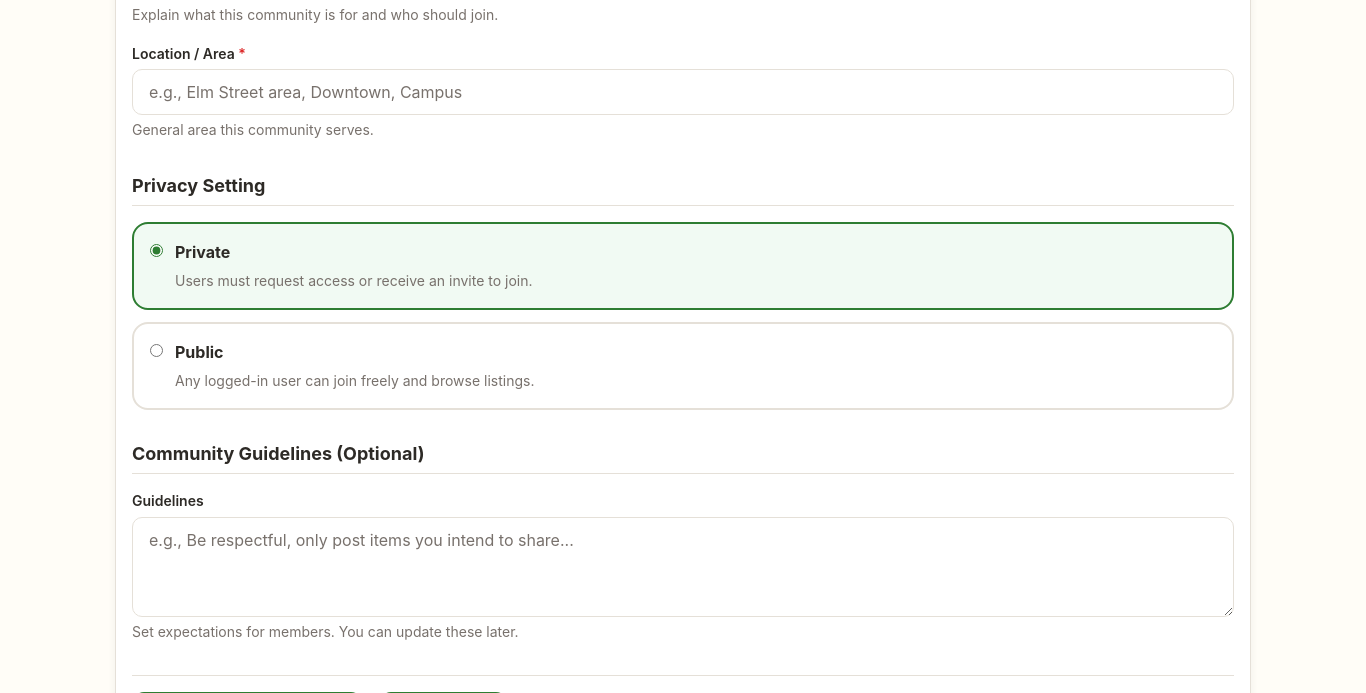
Test: CreateCommunity › must toggle privacy selection
(page scrolled)
Expected: the 1st radio button is checked, [150,244,163,257]
What coordinates should you click on to do the following:
click the 2nd radio button
I would click on:
 (156, 350)
Its box is [150,344,163,357].
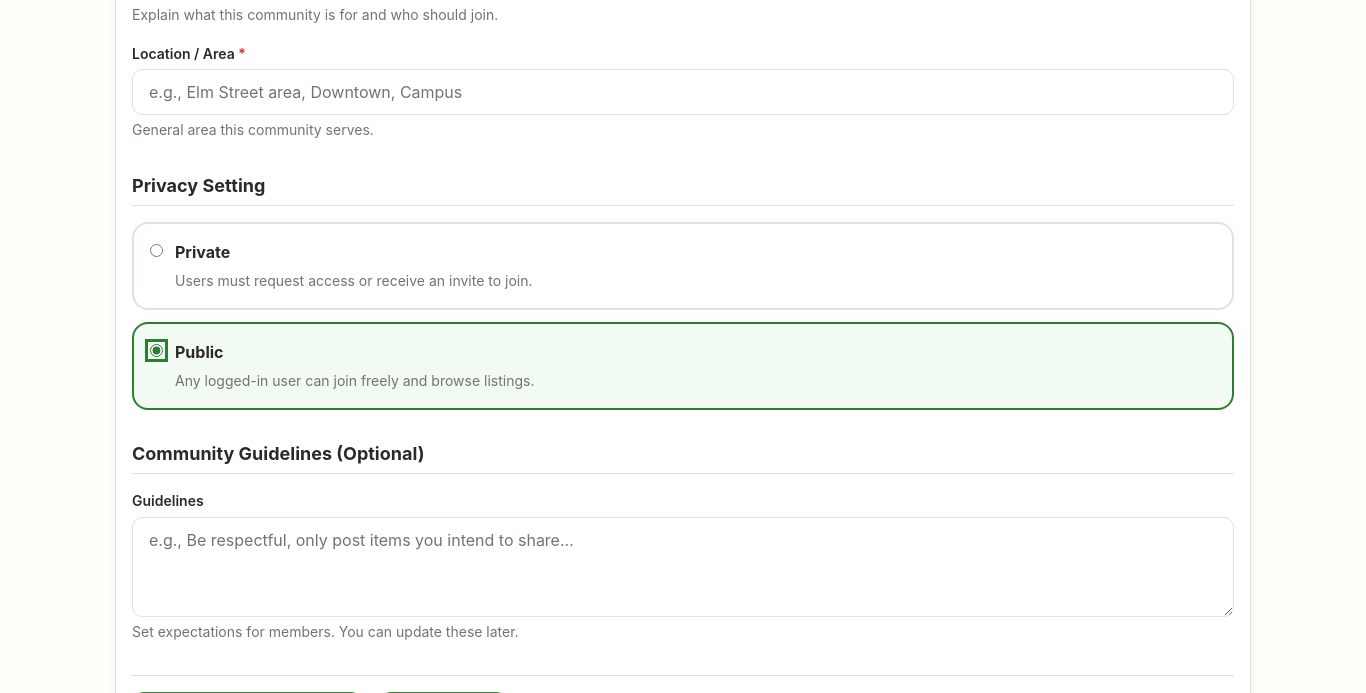
Result: the 2nd radio button is checked at [150,344,163,357]
Result: the 1st radio button is not checked at [150,244,163,257]
